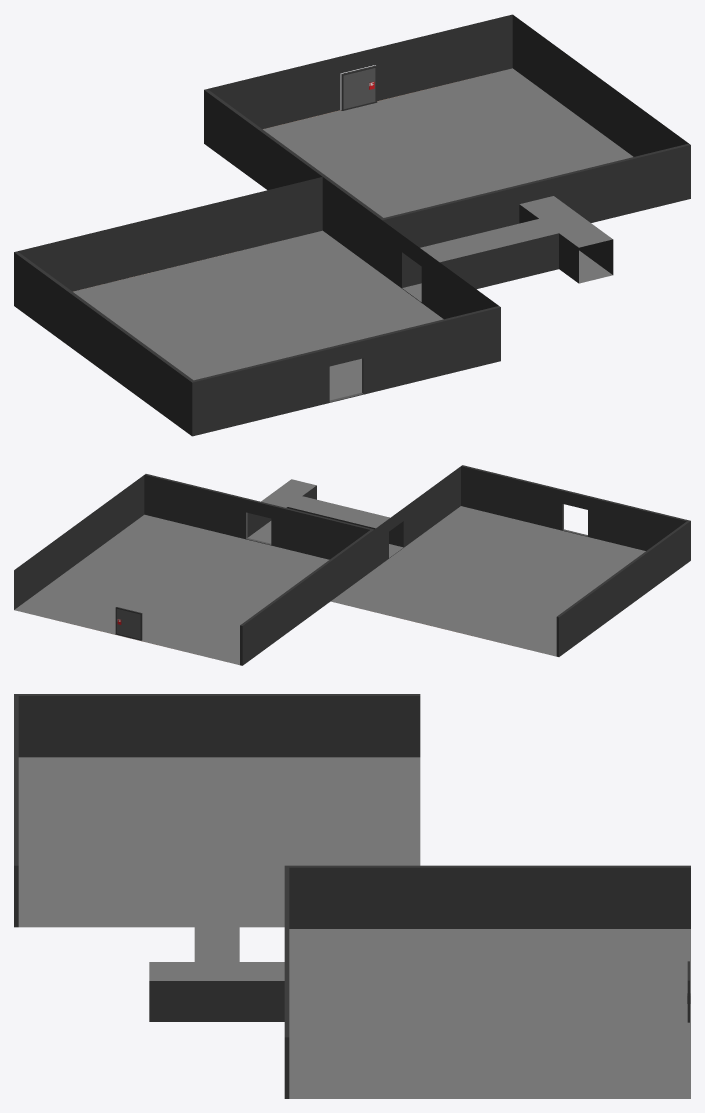
File: Room.fbx
3 views of the same model, one above another, from view 1: azimuth 30°, elevation 25°; view 2: azimuth 150°, elevation 25°; view 3: azimuth 270°, elevation 25° (orthographic). The views are drawn at different scales.
Visible parts, largest first — view 1: Room2, Room, Wall2, Wall, Hall, Door; view 2: Room2, Room, Wall, Hall, Wall2, Door; view 3: Room, Room2, Hall.
Part boxes in pixels (x1,y1,x2,y2): Room2: (14, 230, 500, 436); Room: (204, 68, 690, 247); Wall2: (18, 177, 498, 319); Wall: (208, 14, 688, 156); Hall: (402, 196, 613, 301); Door: (341, 65, 377, 110); Room2: (331, 465, 690, 656); Room: (14, 474, 374, 665); Wall: (14, 475, 144, 609); Hall: (247, 479, 403, 557); Wall2: (331, 466, 460, 571); Door: (115, 607, 142, 640); Room: (284, 865, 690, 1098); Room2: (14, 694, 420, 927); Hall: (149, 885, 284, 1021).
Bounding box in the file's own units: 3600 × 300 × 3000.
